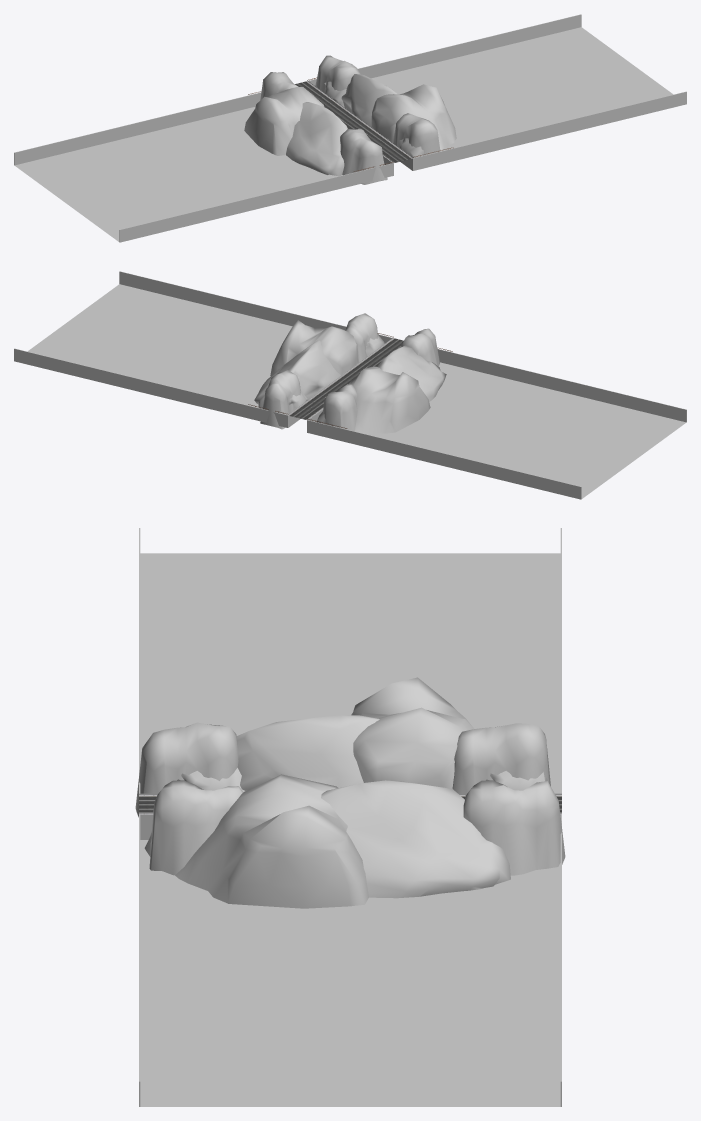
The model's file is snow _ p_02.FBX.
3 views of the same model, one above another, from view 1: azimuth 30°, elevation 25°; view 2: azimuth 150°, elevation 25°; view 3: azimuth 270°, elevation 25° (orthographic). The views are drawn at different scales.
Visible parts, largest first — view 1: Object459, Cylinder038, Cylinder037, road 2; view 2: Object459, Cylinder038, Cylinder037, road 2; view 3: Object459, Cylinder037, Cylinder038.
Boxes of the visible parts, <box> form: Object459: <box>14,14,686,242</box>; Cylinder038: <box>244,72,387,184</box>; Cylinder037: <box>315,55,456,157</box>; road 2: <box>295,81,412,162</box>; Object459: <box>14,271,686,499</box>; Cylinder038: <box>317,328,446,434</box>; Cylinder037: <box>254,313,384,429</box>; road 2: <box>288,338,403,419</box>; Object459: <box>139,528,561,1106</box>; Cylinder037: <box>144,774,565,908</box>; Cylinder038: <box>135,677,550,817</box>.
Size of the model in its own units: 11621 by 909 by 3814.
